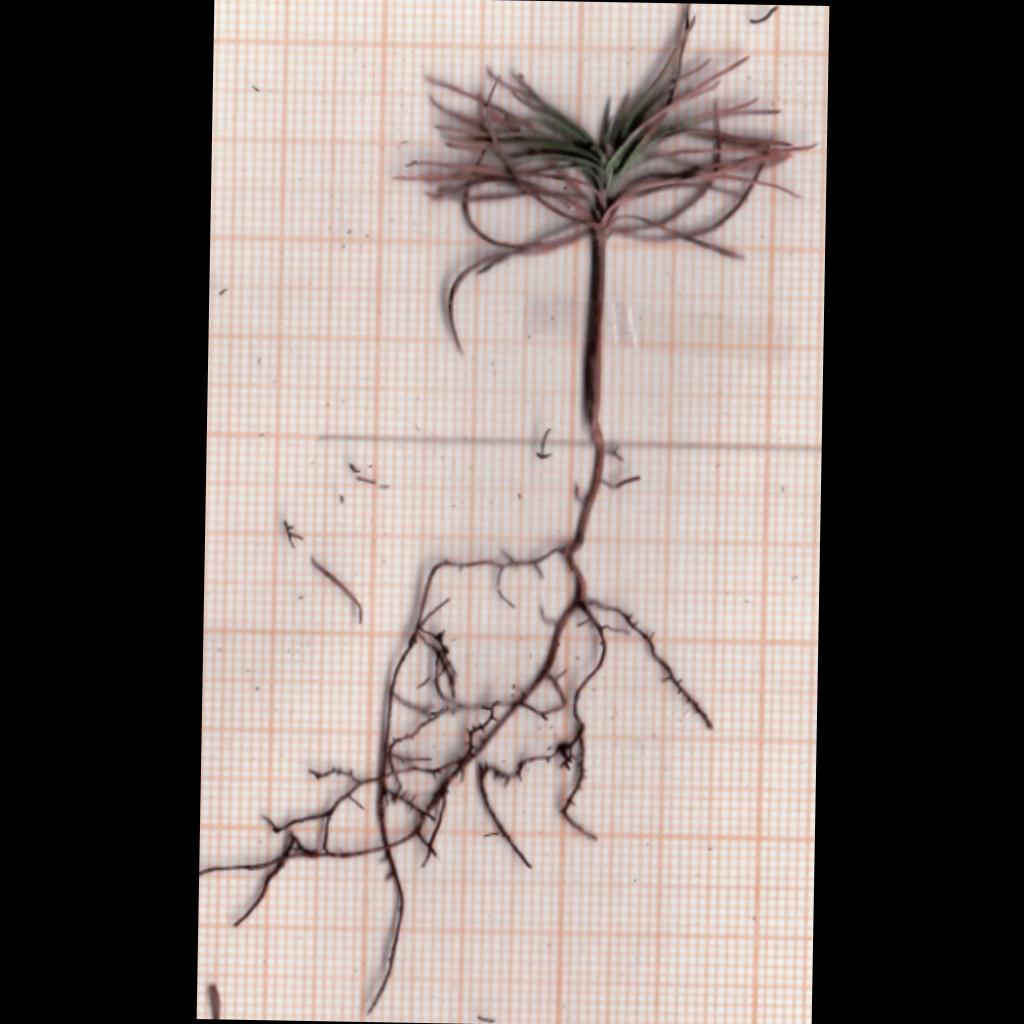flowerCedr: (415, 5, 806, 346)
rootCedr: (199, 423, 712, 1013)
stemCedr: (584, 234, 606, 427)
